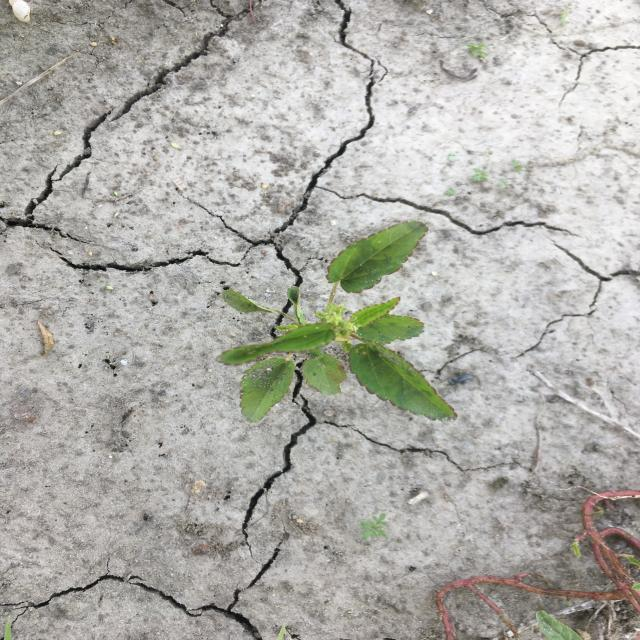PricklySida: (213, 218, 459, 426)
